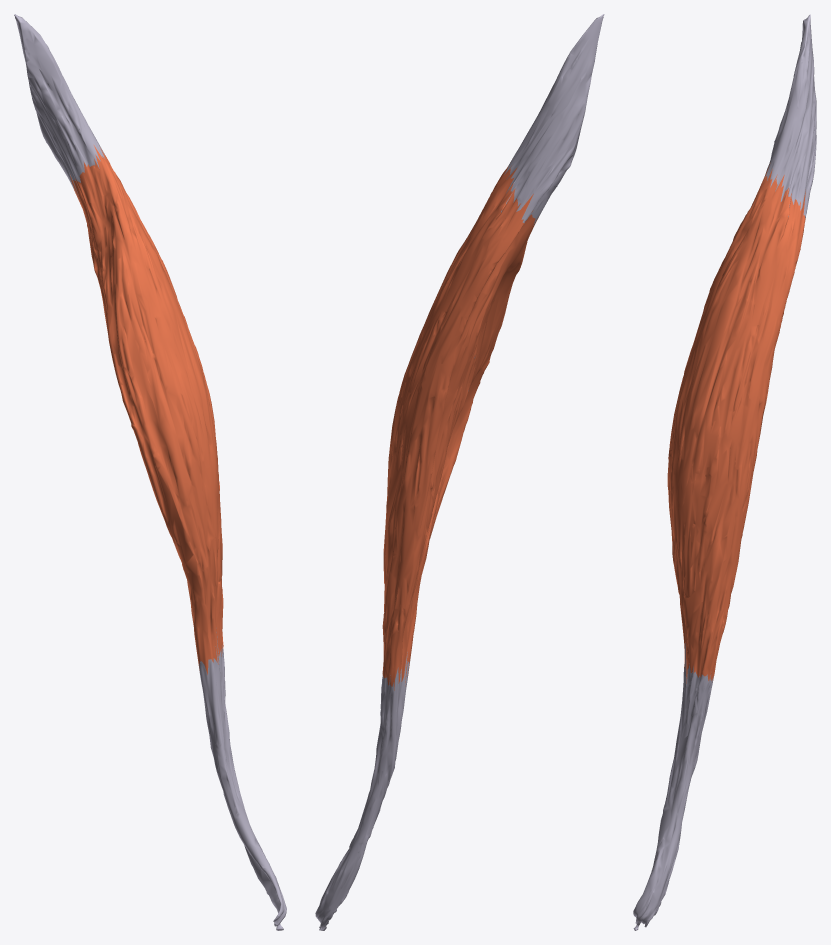
File: Brachioradialis_left.glb
3 renders of one model, left to right at view 1: azimuth 30°, elevation 25°; view 2: azimuth 210°, elevation 25°; view 3: azimuth 270°, elevation 25°, orthographic. The views are drawn at different scales.
Visible parts, largest first — view 1: Brachioradialis_muscle.l_Generated_Mesh_From_X3D.1000; view 2: Brachioradialis_muscle.l_Generated_Mesh_From_X3D.1000; view 3: Brachioradialis_muscle.l_Generated_Mesh_From_X3D.1000.
Boxes of the visible parts, x1,y1,x2,y2 form: Brachioradialis_muscle.l_Generated_Mesh_From_X3D.1000: [14, 14, 286, 930]; Brachioradialis_muscle.l_Generated_Mesh_From_X3D.1000: [315, 14, 604, 930]; Brachioradialis_muscle.l_Generated_Mesh_From_X3D.1000: [633, 14, 816, 930].
Size of the model in its own units: 0.0748 by 0.3491 by 0.0693.
